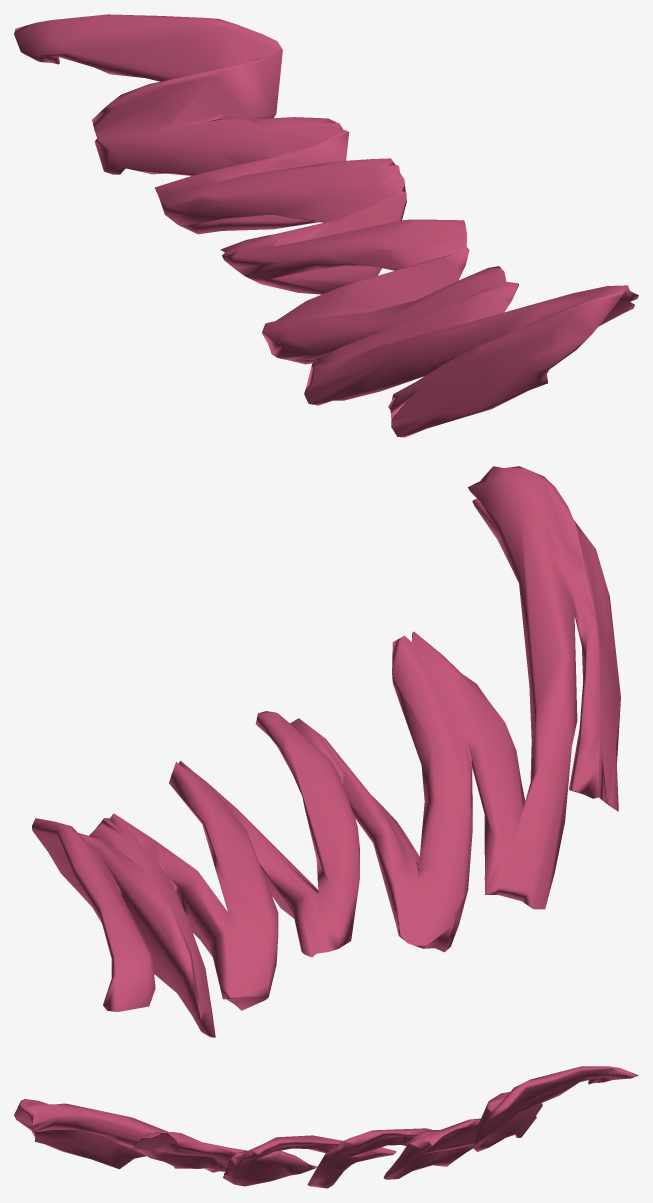
3 renders of one model, top to bottom at view 1: azimuth 30°, elevation 25°; view 2: azimuth 150°, elevation 25°; view 3: azimuth 270°, elevation 25°, orthographic. The views are drawn at different scales.
Parts seen in each view (by area): view 1: 右侧颈多裂肌; view 2: 右侧颈多裂肌; view 3: 右侧颈多裂肌.
Part boxes in pixels (<box>): 右侧颈多裂肌: <box>14,14,638,437</box>; 右侧颈多裂肌: <box>32,466,620,1037</box>; 右侧颈多裂肌: <box>14,1066,638,1188</box>.
Size of the model in its own units: 0.0353 by 0.0334 by 0.1445.
